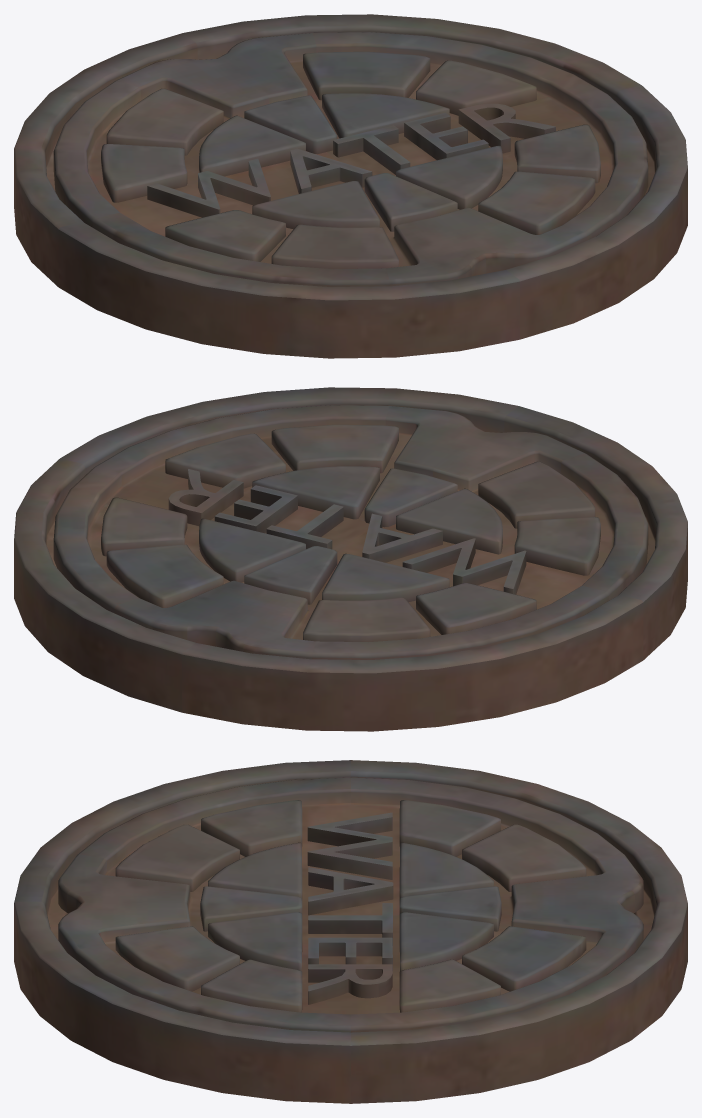
The model's file is water_manhole_cover.glb.
3 renders of one model, top to bottom at view 1: azimuth 30°, elevation 25°; view 2: azimuth 150°, elevation 25°; view 3: azimuth 270°, elevation 25°, orthographic.
Parts seen in each view (by area): view 1: water_manhole_cover, water_manhole_cover_frame; view 2: water_manhole_cover, water_manhole_cover_frame; view 3: water_manhole_cover, water_manhole_cover_frame.
Part boxes in pixels (x1,y1,x2,y2): water_manhole_cover: (53, 32, 648, 286); water_manhole_cover_frame: (14, 14, 687, 358); water_manhole_cover: (53, 405, 648, 659); water_manhole_cover_frame: (14, 387, 687, 731); water_manhole_cover: (58, 777, 643, 1032); water_manhole_cover_frame: (14, 760, 687, 1103).
Size of the model in its own units: 0.6908 by 0.0676 by 0.6908.
1 material, 1 textured.
